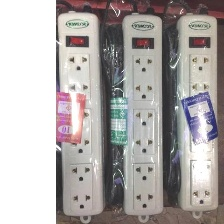three_eye_plug: (57, 8, 109, 218), (175, 11, 222, 216), (120, 10, 166, 217)
